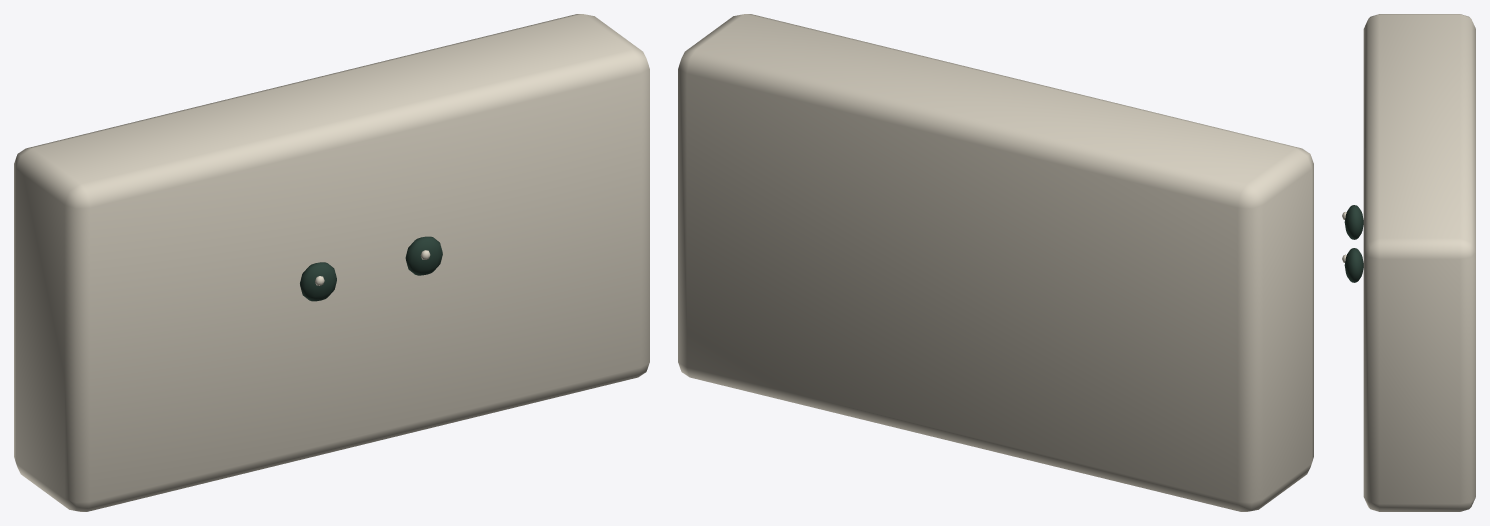
3 views of the same model, side by side, from view 1: azimuth 30°, elevation 25°; view 2: azimuth 150°, elevation 25°; view 3: azimuth 270°, elevation 25° (orthographic). The views are drawn at different scales.
Parts seen in each view (by area): view 1: color_body, body; view 2: color_body; view 3: color_body, body.
Part boxes in pixels (<box>): color_body: <box>14,14,649,511</box>; body: <box>300,236,442,301</box>; color_body: <box>678,14,1313,511</box>; color_body: <box>1363,14,1475,511</box>; body: <box>1342,205,1363,282</box>.
Size of the model in its own units: 1.6 by 0.86 by 0.382.
